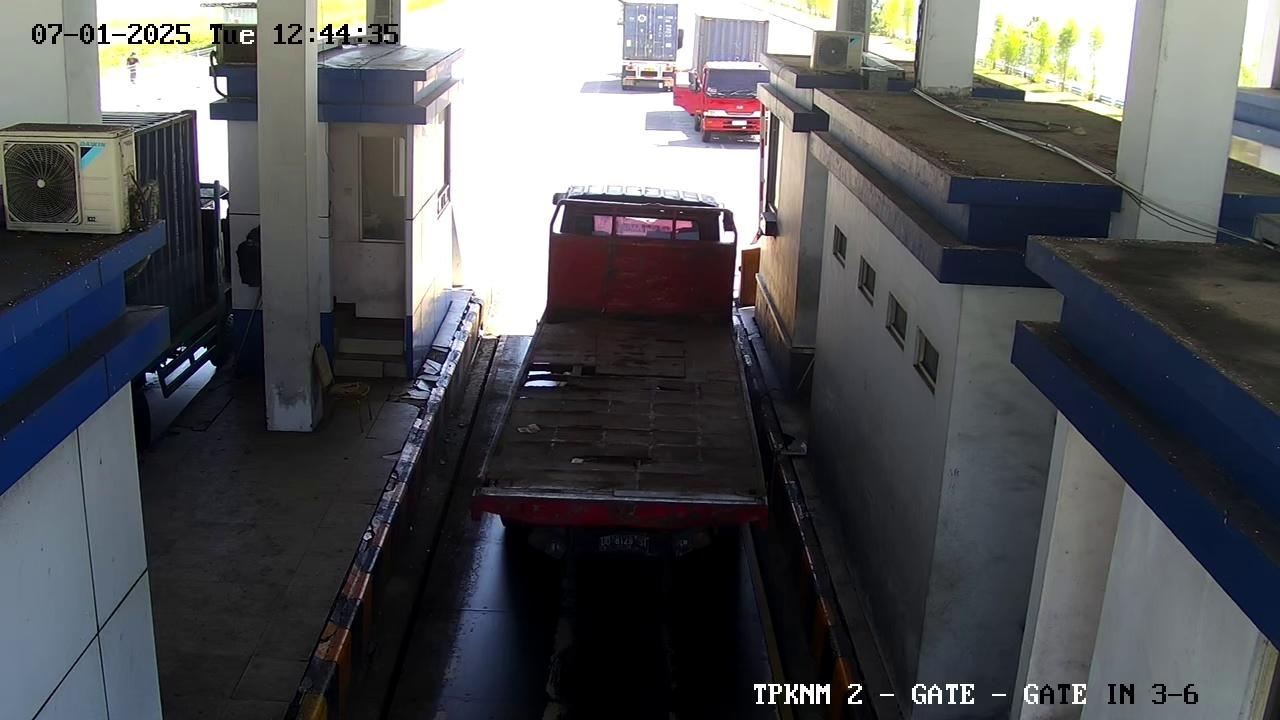plate_number: (582, 523, 675, 564)
